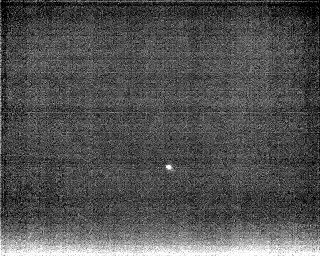AIRPLANE: (164, 162, 175, 174)
